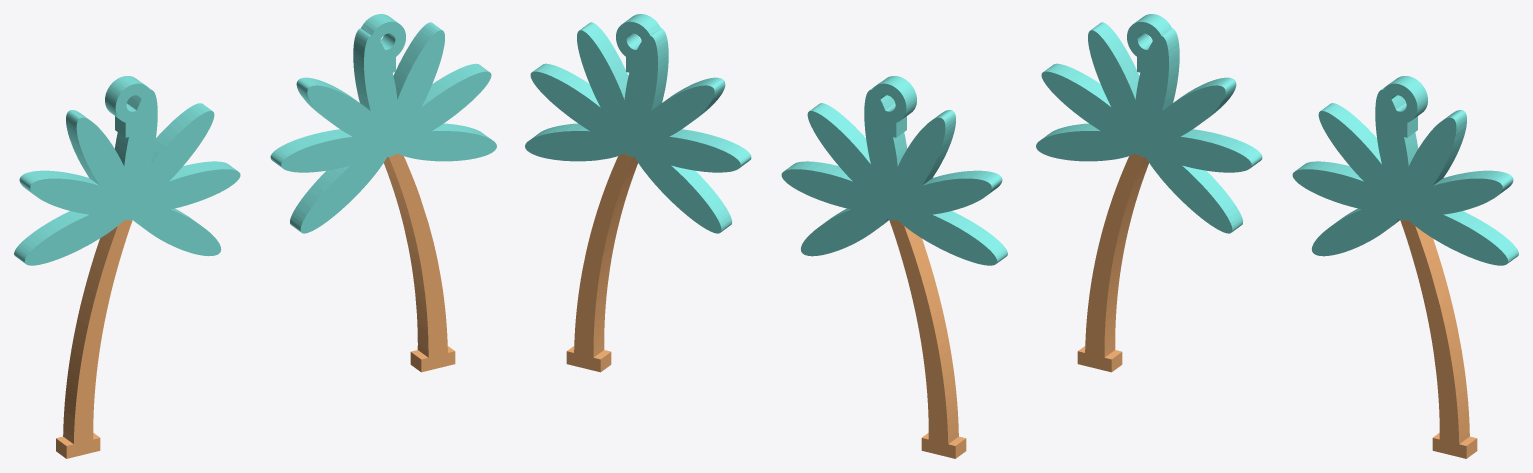
The model's file is aretes-palmera.glb.
3 renders of one model, left to right at view 1: azimuth 30°, elevation 25°; view 2: azimuth 150°, elevation 25°; view 3: azimuth 330°, elevation 25°, orthographic.
Parts seen in each view (by area): view 1: turquesa, naranja; view 2: turquesa, naranja; view 3: turquesa, naranja.
Boxes of the visible parts, <box> form: turquesa: <box>14,14,496,265</box>; naranja: <box>56,153,455,458</box>; turquesa: <box>525,14,1007,265</box>; naranja: <box>566,153,966,458</box>; turquesa: <box>1036,14,1518,265</box>; naranja: <box>1077,153,1477,458</box>.
Size of the model in its own units: 61.23 by 44.4 by 2.4.
